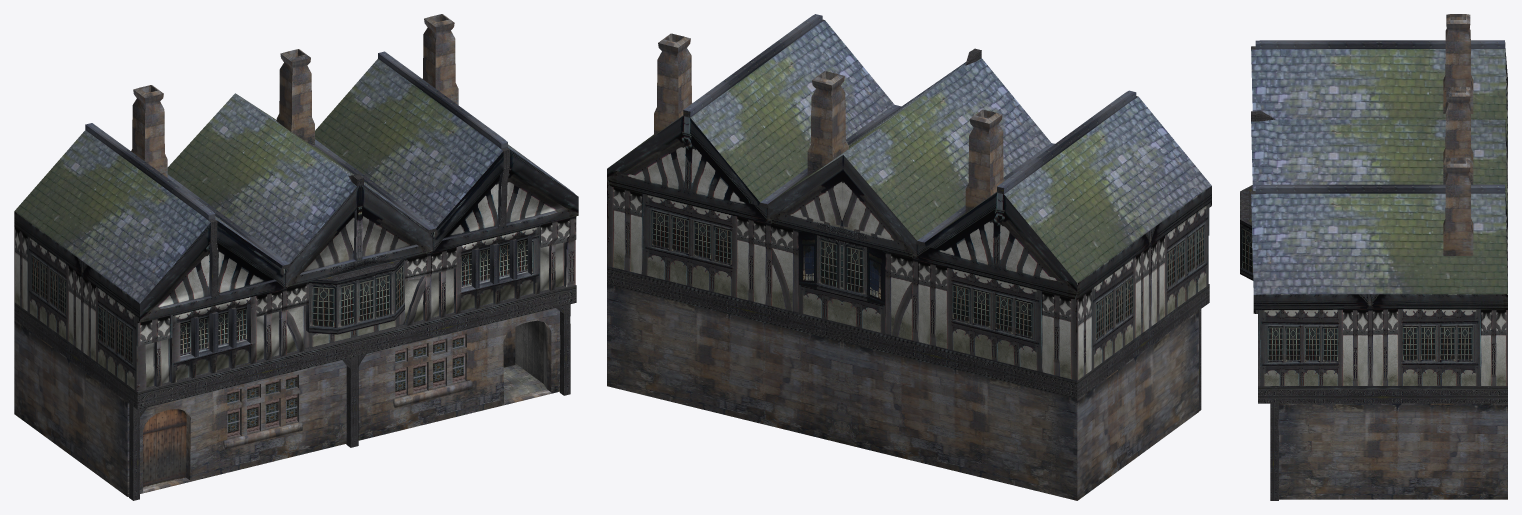
The model's file is medhouse4.fbx.
The picture shows the model from 3 angles, left to right: view 1: azimuth 30°, elevation 25°; view 2: azimuth 150°, elevation 25°; view 3: azimuth 270°, elevation 25°; orthographic projection. The views are drawn at different scales.
Visible parts, largest first — view 1: medhouse4, medhouse4_interior; view 2: medhouse4; view 3: medhouse4.
Boxes of the visible parts, box(x1,y1,x2,y2) form: medhouse4: box(14, 14, 578, 500); medhouse4_interior: box(503, 320, 547, 399); medhouse4: box(607, 14, 1211, 500); medhouse4: box(1240, 14, 1507, 500).
Size of the model in its own units: 1317 by 911 by 687.
